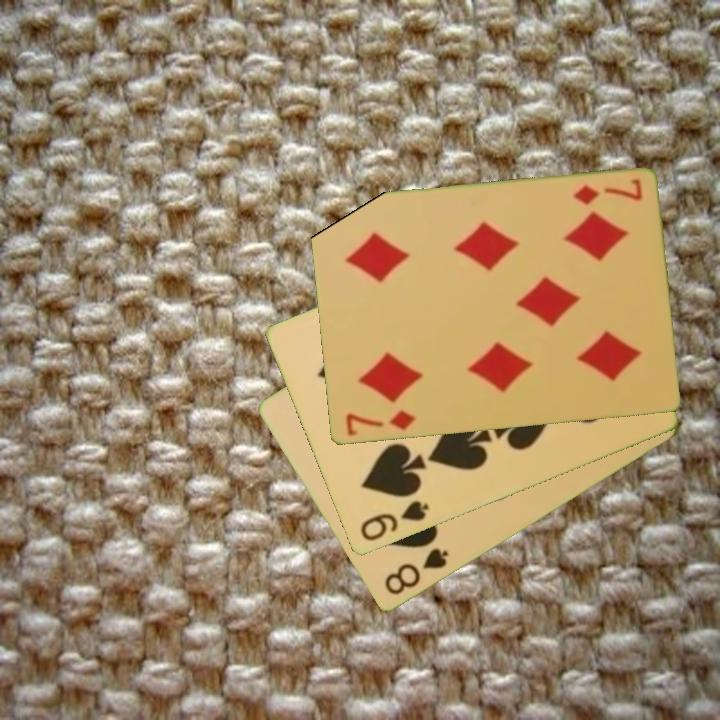7d: (569, 176, 645, 209), (341, 407, 419, 439)
8s: (380, 545, 452, 599)
9s: (356, 497, 432, 545)
